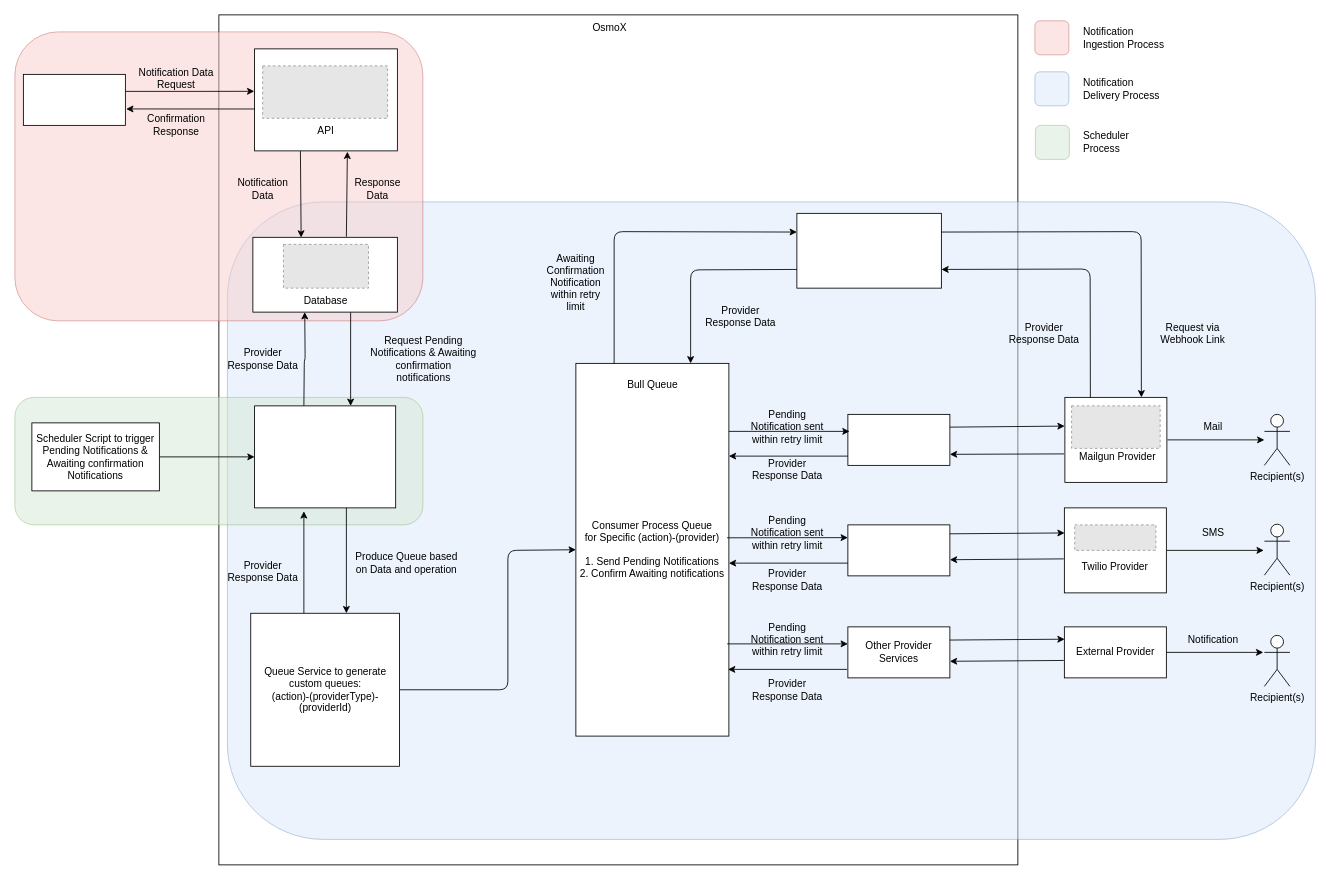
This 1330x887 diagram has some shape labels left out. Grey dashed boxes stand in for pictures. The shapes that lost their labels are listed below. From the top down, each one's box as (x1, y1, x2, y2) in pixels, then its label:
(23, 74, 125, 125): User/Application
(796, 212, 941, 288): Webhook for provider confirmation
(254, 405, 396, 508): Scheduler Endpoint
(847, 414, 950, 465): Mailgun Provider Service
(847, 524, 950, 576): Twilio Provider Service
